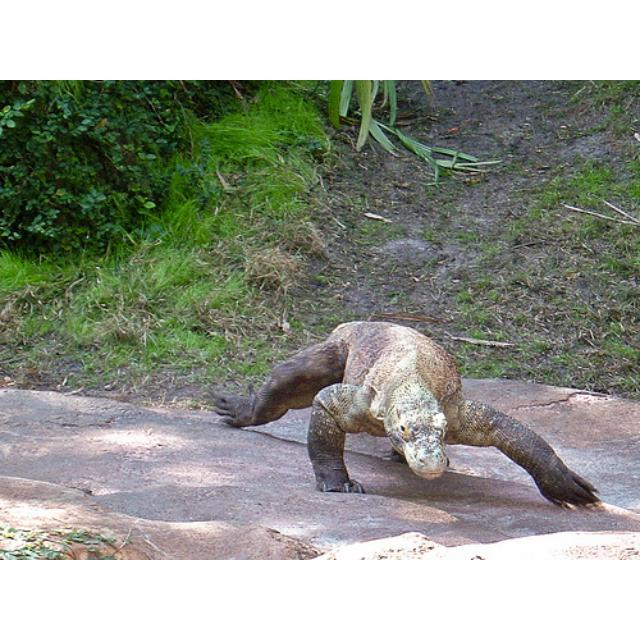KomodoDragon: (203, 316, 606, 515)
